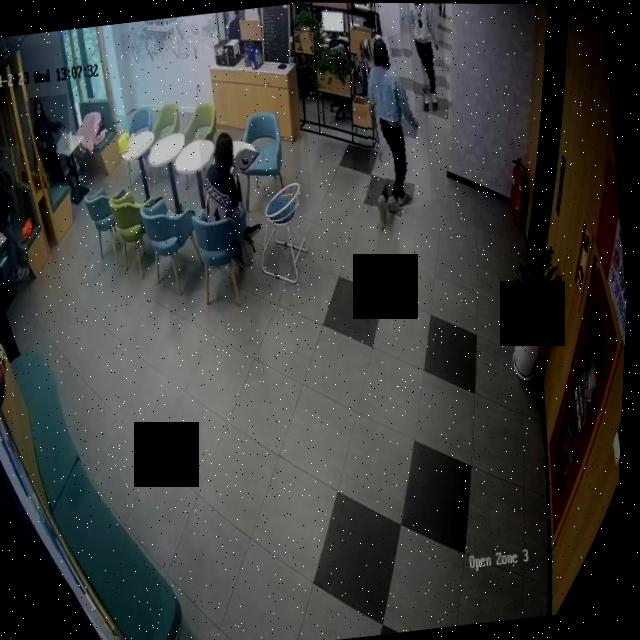person: (354, 31, 439, 212), (195, 129, 260, 269), (401, 2, 453, 112), (0, 144, 37, 283), (26, 93, 79, 189)
